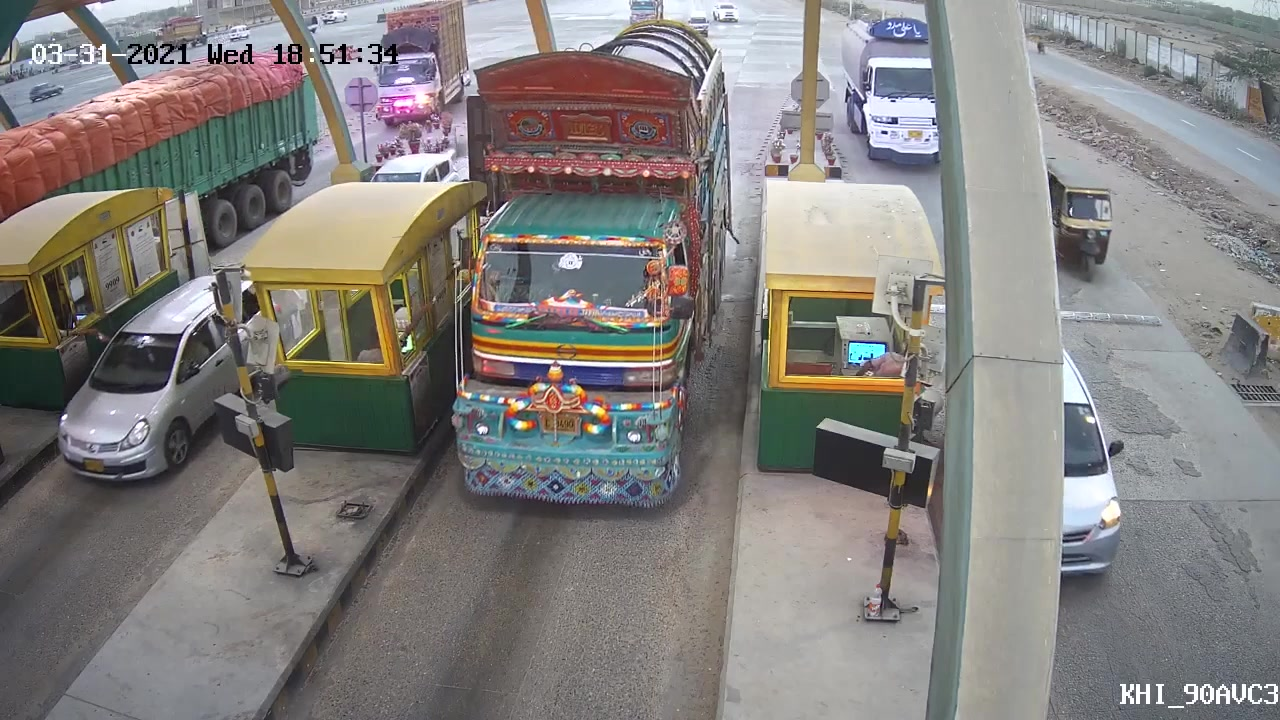F5: (442, 5, 742, 512)
